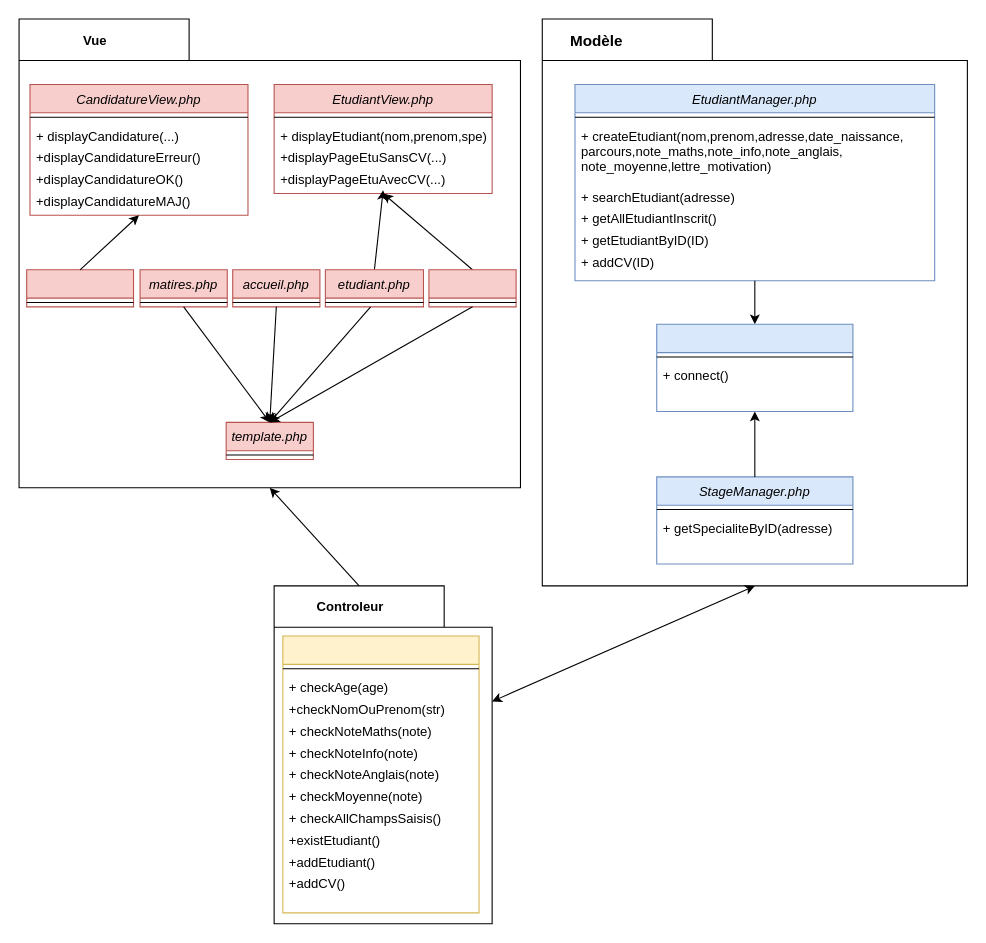
Image size: 986x943. Some labels were removed from this diagram. Each missing label, with the box of its shape:
candidatures.php: (26, 269, 134, 307)
ConnexionBase.php: (656, 323, 853, 411)
detail.php: (428, 269, 516, 307)
EtudiantControler.php: (282, 635, 479, 913)
